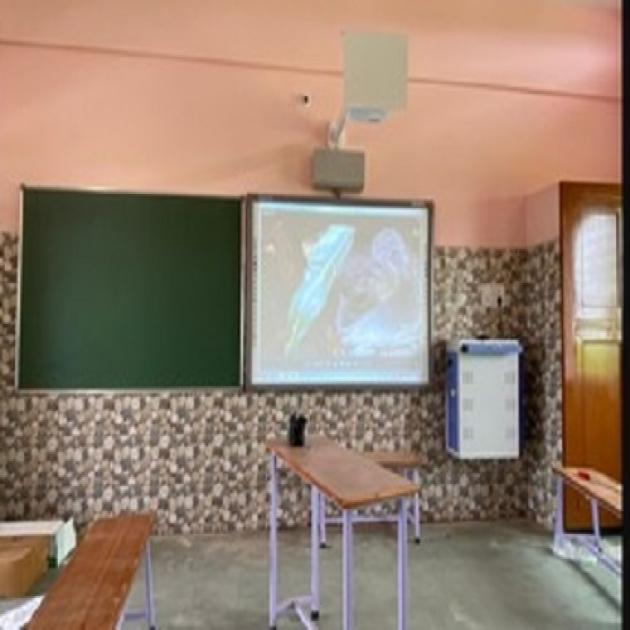projector: (216, 157, 486, 434)
